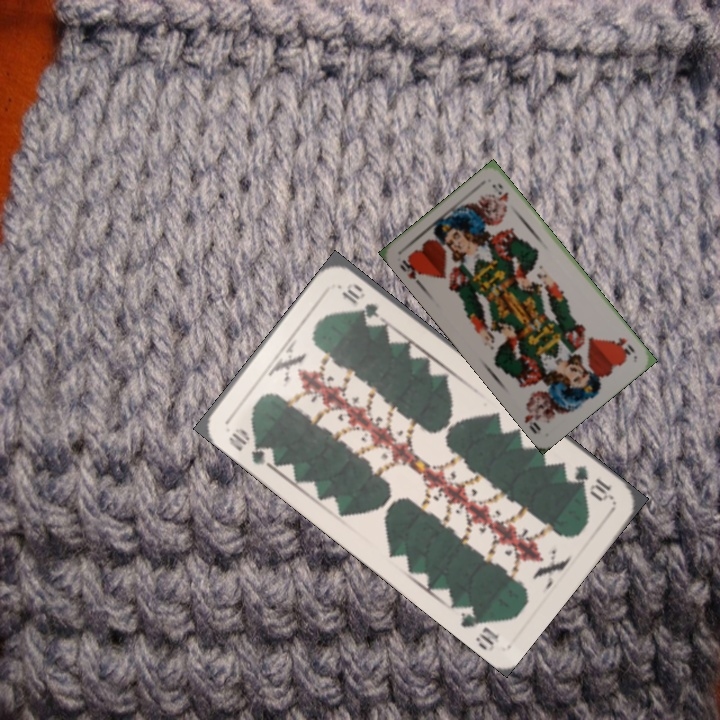G10: (224, 424, 273, 469), (570, 460, 616, 504)
HO: (395, 252, 425, 282), (609, 333, 637, 359)
